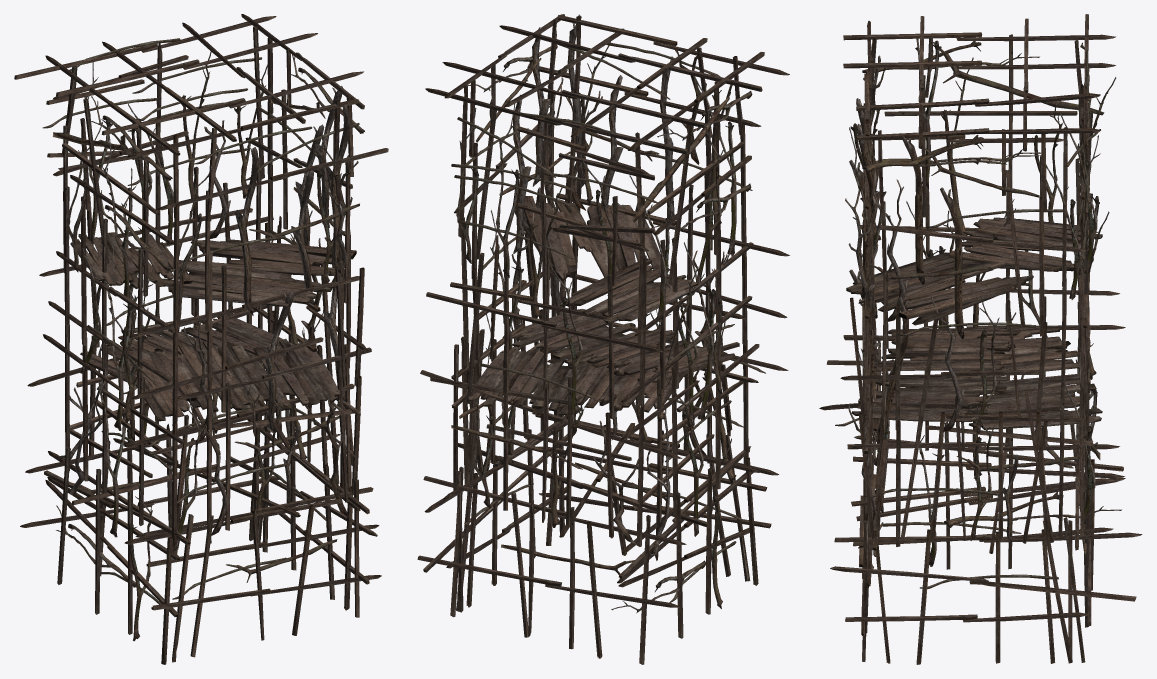
Rendered from P_TowerBracket03.FBX.
The picture shows the model from 3 angles, left to right: view 1: azimuth 30°, elevation 25°; view 2: azimuth 150°, elevation 25°; view 3: azimuth 270°, elevation 25°; orthographic projection. The views are drawn at different scales.
Parts seen in each view (by area): view 1: P_TowerBracket03; view 2: P_TowerBracket03; view 3: P_TowerBracket03.
Part boxes in pixels (x1=…): P_TowerBracket03: x1=14, y1=14, x2=388, y2=664; P_TowerBracket03: x1=417, y1=14, x2=789, y2=664; P_TowerBracket03: x1=819, y1=14, x2=1142, y2=664.
Size of the model in its own units: 5573 by 10092 by 5469.
